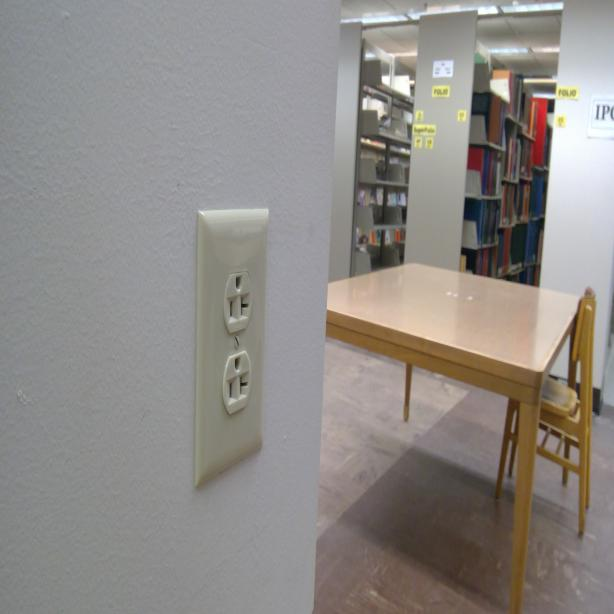typeb: (222, 352, 254, 414), (224, 268, 254, 334)
